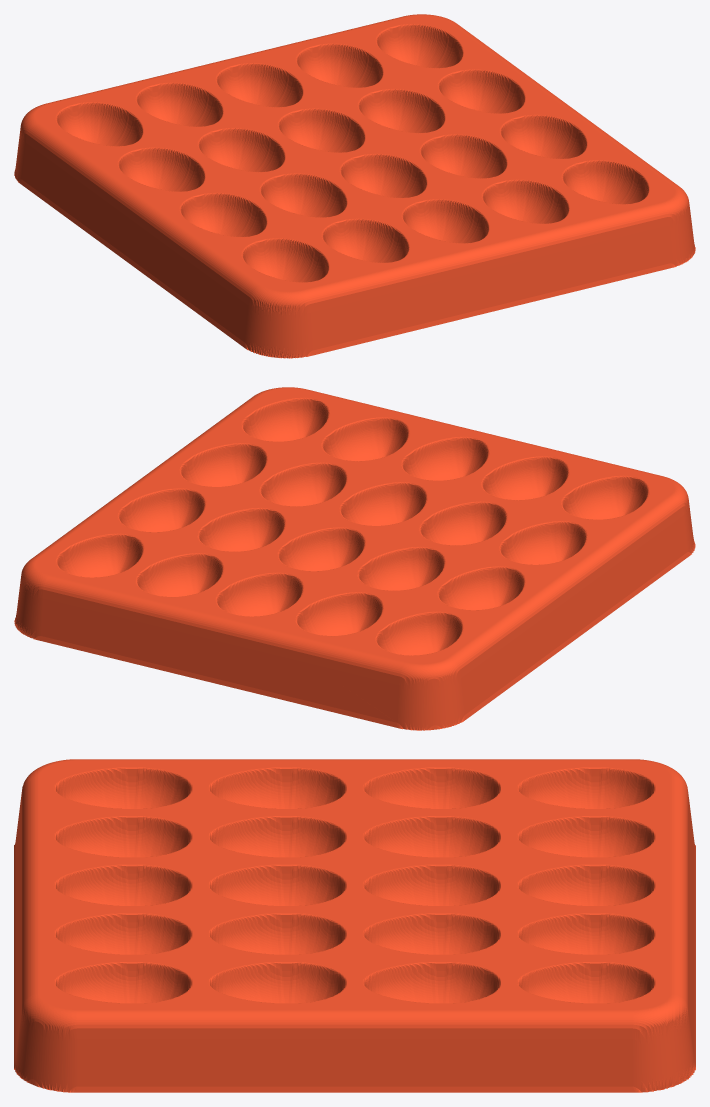
The model's file is mold.glb.
The picture shows the model from 3 angles, top to bottom: view 1: azimuth 30°, elevation 25°; view 2: azimuth 150°, elevation 25°; view 3: azimuth 270°, elevation 25°; orthographic projection. The views are drawn at different scales.
Parts seen in each view (by area): view 1: geometry_0; view 2: geometry_0; view 3: geometry_0.
Boxes of the visible parts, x1,y1,x2,y2 form: geometry_0: (14,14,695,358); geometry_0: (14,387,695,730); geometry_0: (14,759,695,1092).
Size of the model in its own units: 0.0912 by 0.0114 by 0.0972.
